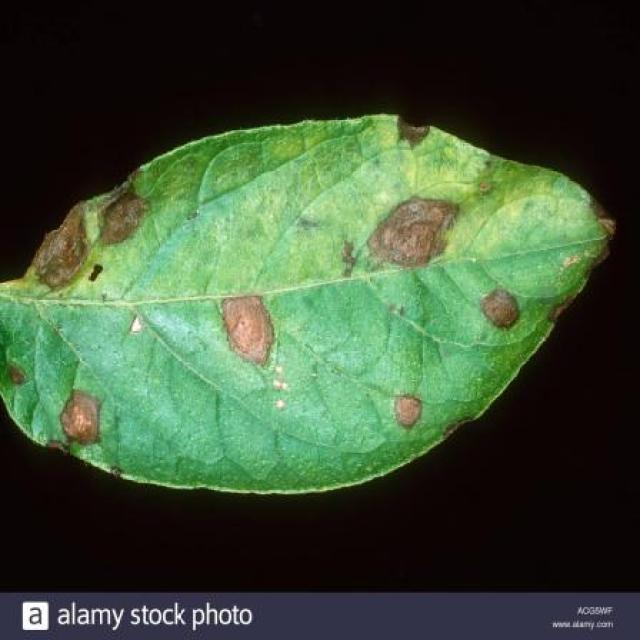Early Blight: (0, 114, 621, 495)
